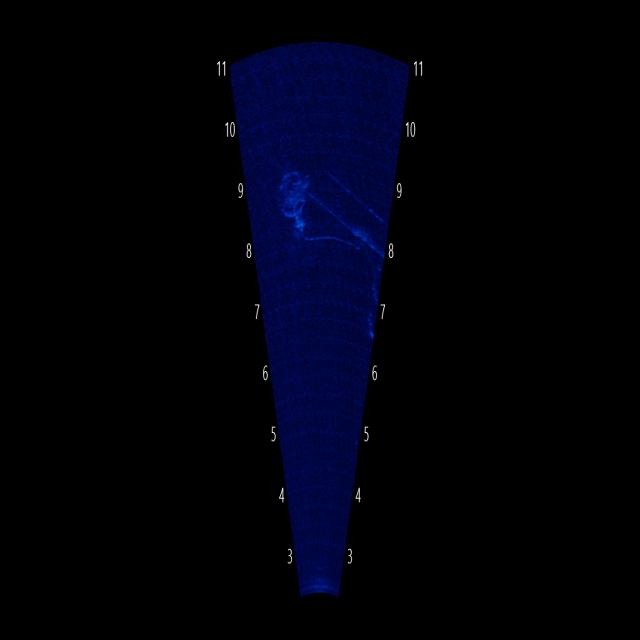circle: (269, 137, 316, 245)
